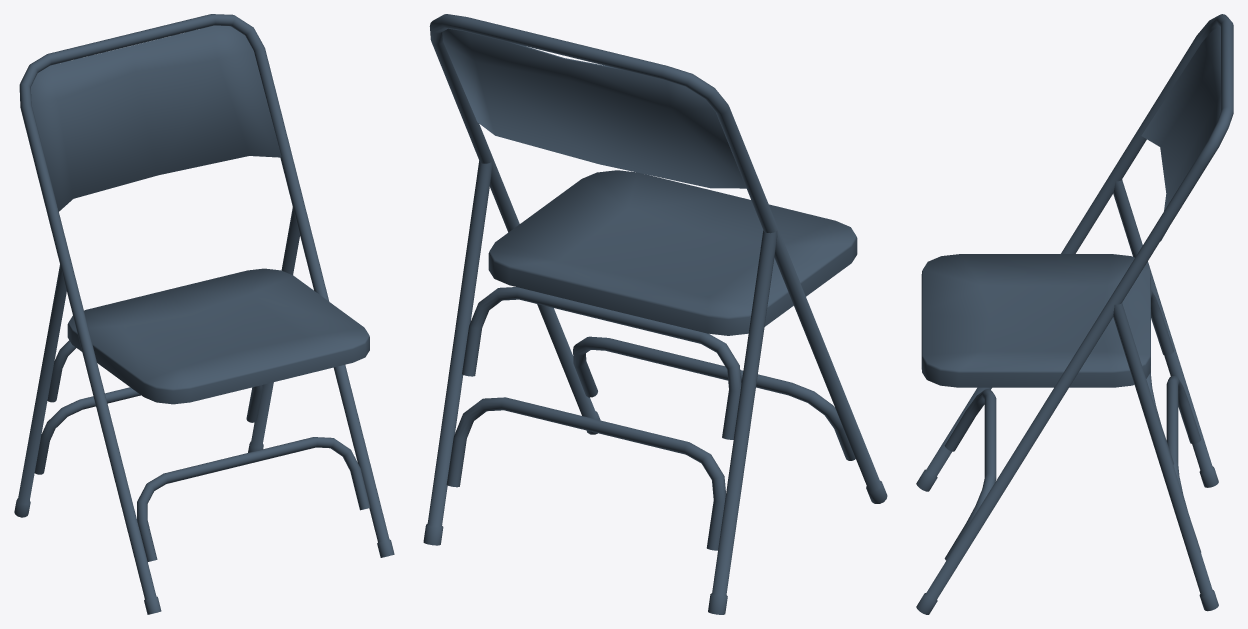
File: ExportedBlenderFBXFile.fbx
3 renders of one model, left to right at view 1: azimuth 30°, elevation 25°; view 2: azimuth 150°, elevation 25°; view 3: azimuth 270°, elevation 25°, orthographic. The views are drawn at different scales.
Visible parts, largest first — view 1: Cylinder; view 2: Cylinder; view 3: Cylinder.
Part boxes in pixels (x1=…): Cylinder: x1=14, y1=14, x2=394, y2=614; Cylinder: x1=423, y1=14, x2=887, y2=614; Cylinder: x1=916, y1=14, x2=1233, y2=614.
Bounding box in the file's own units: 4.75 × 8.33 × 4.91.
